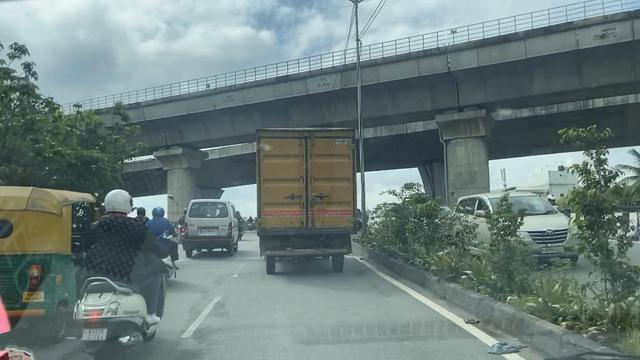HMV: (258, 130, 354, 270)
